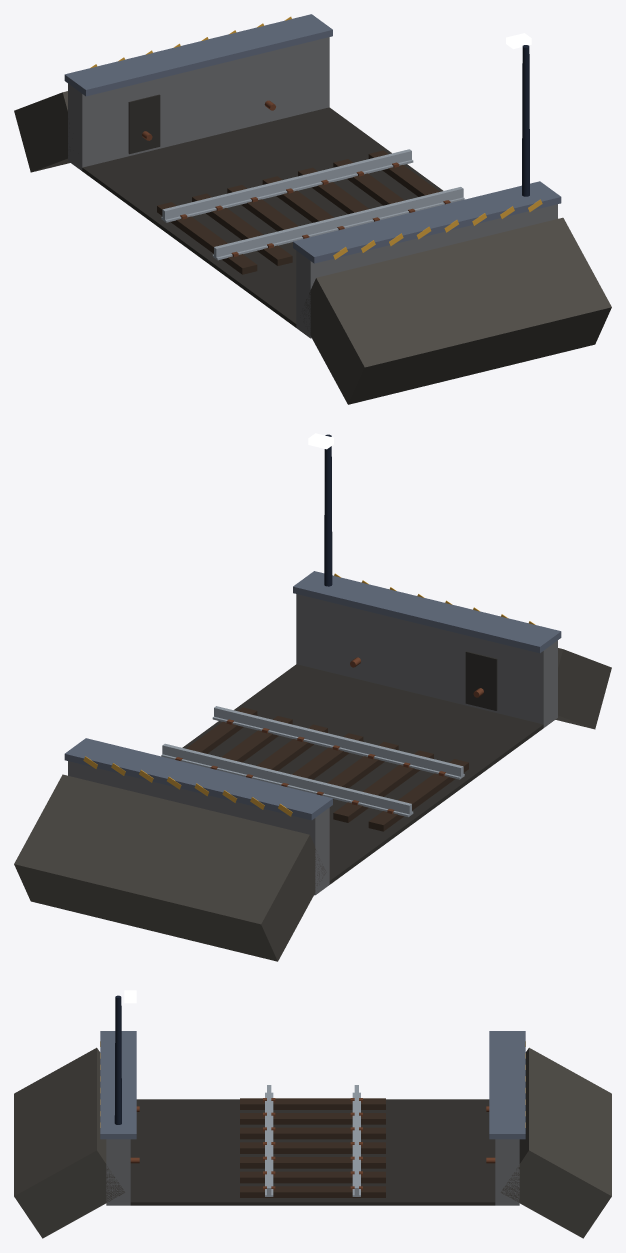
Rendered from switchyard_cut_channel.glb.
3 views of the same model, one above another, from view 1: azimuth 30°, elevation 25°; view 2: azimuth 150°, elevation 25°; view 3: azimuth 270°, elevation 25° (orthographic). The views are drawn at different scales.
Visible parts, largest first — view 1: cut_embankment1, cut_floor, cut_wall-1, cut_wall_cap-1, cut_wall_cap1, cut_wall1, cut_embankment-1, cut_track_rail1, cut_track_rail-1, cut_stain-1, cut_track_sleeper0, cut_track_sleeper1 (+9 smaller); view 2: cut_embankment-1, cut_floor, cut_wall1, cut_wall_cap1, cut_wall_cap-1, cut_wall-1, cut_embankment1, cut_track_rail1, cut_track_rail-1, cut_stain1, cut_track_sleeper0, cut_track_sleeper1 (+9 smaller); view 3: cut_floor, cut_embankment1, cut_embankment-1, cut_wall_cap-1, cut_wall_cap1, cut_wall1, cut_wall-1, cut_track_sleeper2, cut_track_sleeper5, cut_track_sleeper6, cut_track_sleeper0, cut_track_sleeper1 (+7 smaller).
Part boxes in pixels (x1,y1,x2,y2): cut_embankment1: [302, 217, 611, 404]; cut_floor: [82, 107, 443, 327]; cut_wall-1: [68, 37, 329, 170]; cut_wall_cap-1: [64, 14, 332, 96]; cut_wall_cap1: [293, 181, 561, 263]; cut_wall1: [296, 204, 557, 338]; cut_embankment-1: [14, 91, 70, 172]; cut_track_rail1: [214, 187, 463, 258]; cut_track_rail-1: [162, 149, 411, 221]; cut_stain-1: [128, 94, 160, 154]; cut_track_sleeper0: [157, 202, 257, 274]; cut_track_sleeper1: [192, 193, 292, 265]; cut_embankment-1: [14, 774, 326, 961]; cut_floor: [182, 664, 543, 884]; cut_wall1: [296, 594, 557, 727]; cut_wall_cap1: [293, 571, 561, 653]; cut_wall_cap-1: [64, 738, 332, 820]; cut_wall-1: [68, 761, 329, 895]; cut_embankment1: [555, 648, 611, 729]; cut_track_rail1: [214, 706, 463, 777]; cut_track_rail-1: [162, 743, 411, 814]; cut_stain1: [465, 651, 497, 710]; cut_track_sleeper0: [368, 759, 468, 831]; cut_track_sleeper1: [333, 750, 433, 822]; cut_floor: [130, 1099, 495, 1205]; cut_embankment1: [14, 1047, 124, 1238]; cut_embankment-1: [501, 1047, 611, 1238]; cut_wall_cap-1: [489, 1031, 525, 1139]; cut_wall_cap1: [100, 1031, 136, 1139]; cut_wall1: [106, 1139, 130, 1205]; cut_wall-1: [495, 1139, 519, 1205]; cut_track_sleeper2: [240, 1127, 385, 1139]; cut_track_sleeper5: [240, 1171, 385, 1183]; cut_track_sleeper6: [240, 1186, 385, 1197]; cut_track_sleeper0: [240, 1098, 385, 1109]; cut_track_sleeper1: [240, 1113, 385, 1124].
Size of the model in its own units: 4 by 4.25 by 9.83.
